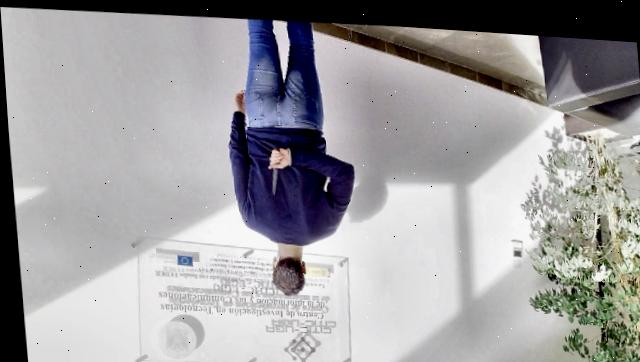pocket-knife: (262, 140, 281, 194)
